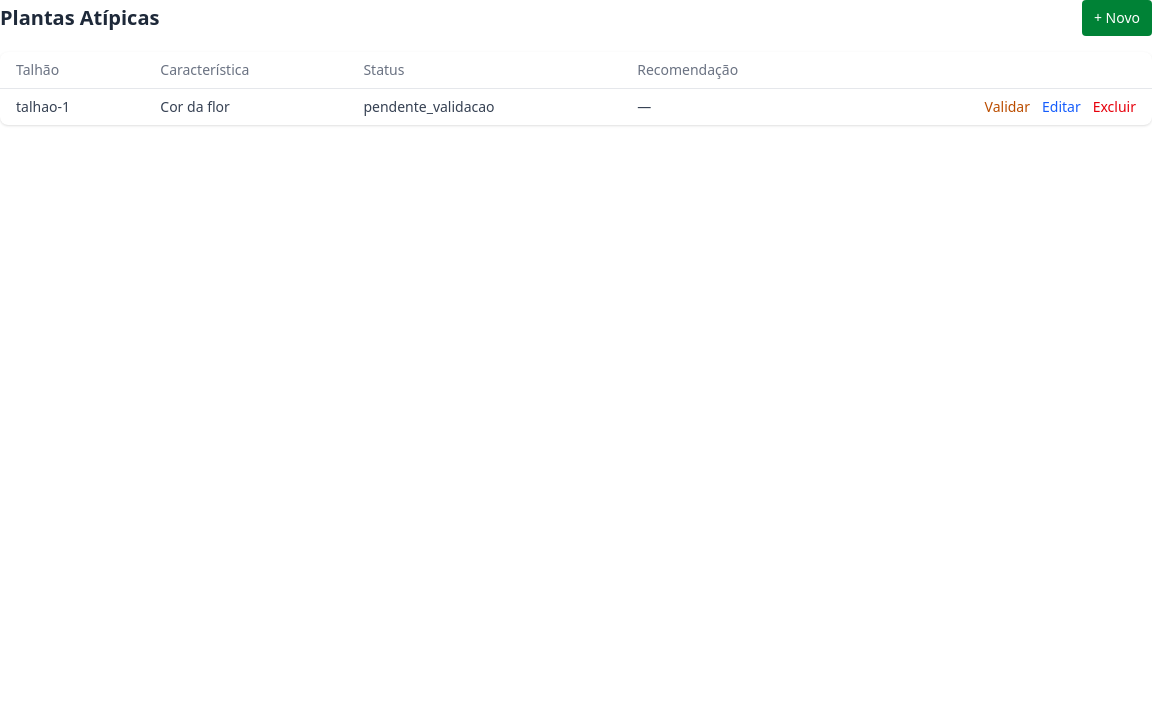
Test: PlantasAtipicasPage › valida uma ocorrencia com decisao e justificativa e recarrega a lista
Expected: the text "Cor da flor" is shown, [144,88,347,125]
Click the button "Validar" at [1007, 107], box [984,97,1030,117]
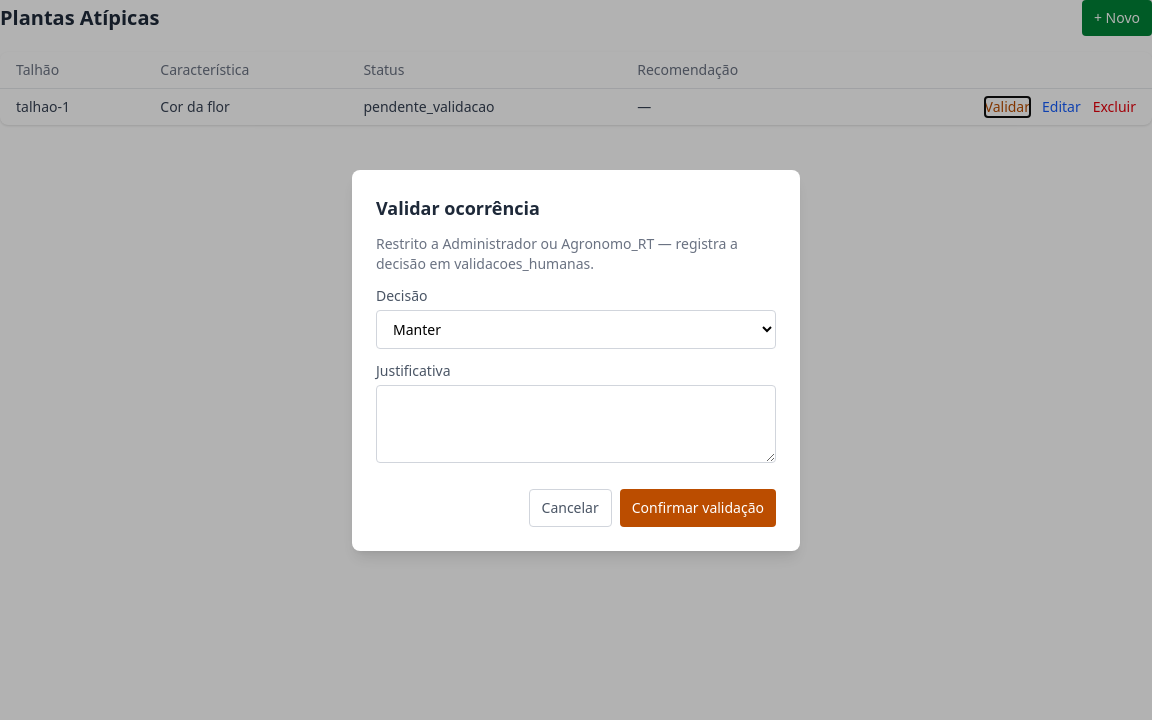
Select "Eliminar" in the dropdown at [576, 329], box [376,310,776,348]
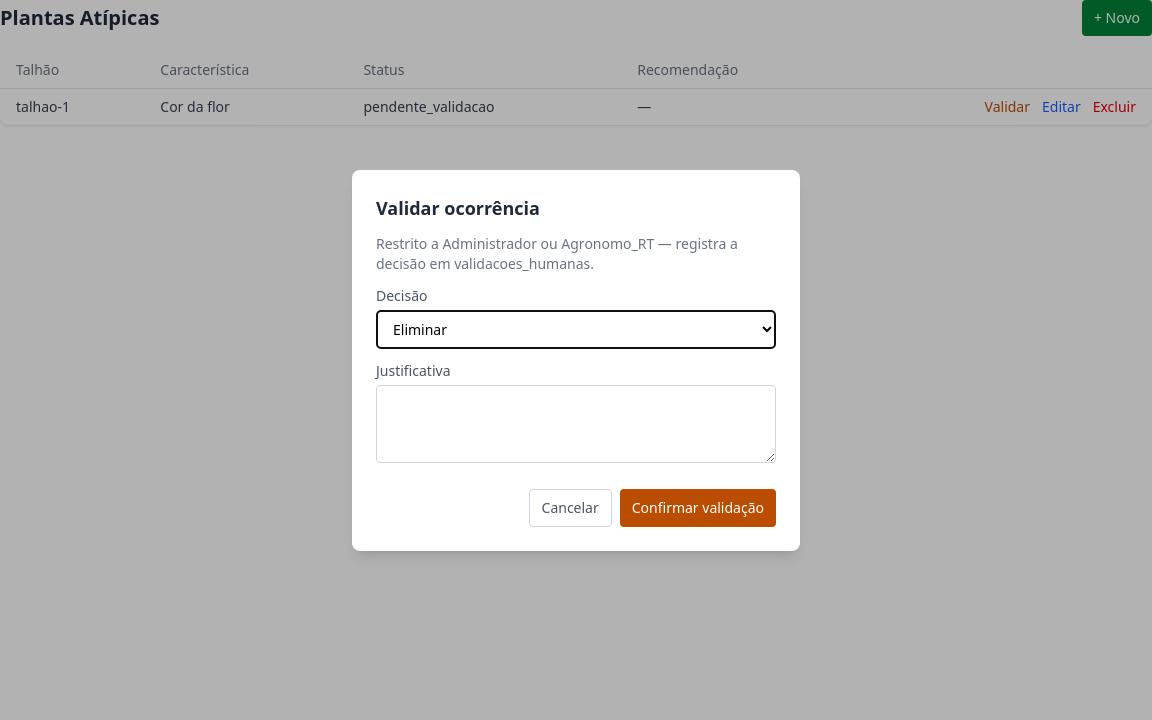
Type "Fora do padrão da cultivar" into the text box at [576, 424], box [376,384,776,462]
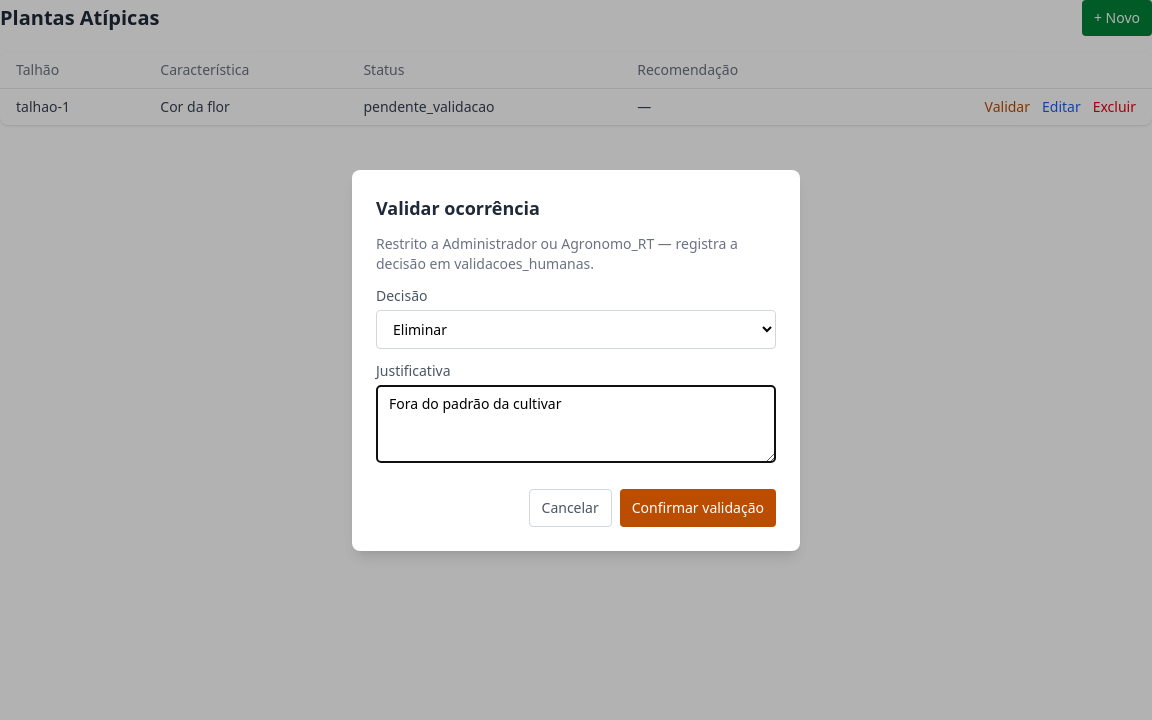
Click the button "Confirmar validação" at [698, 508], box [620,488,776,526]
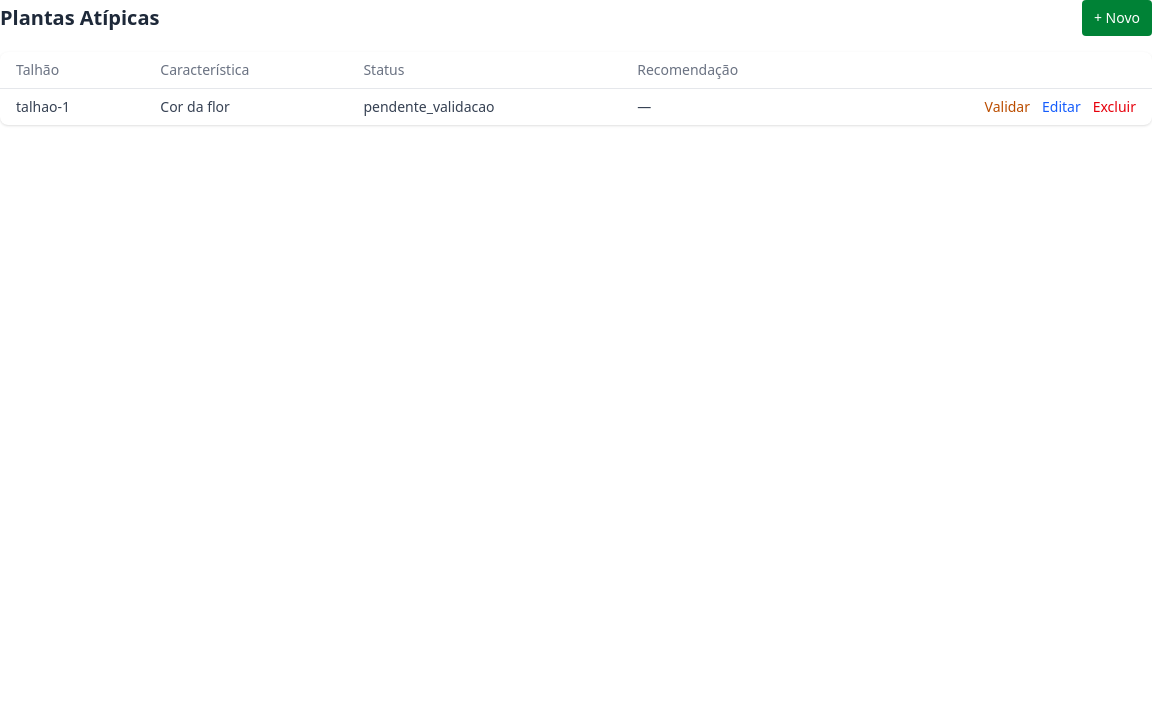
Now the heading "Validar ocorrência" is gone
